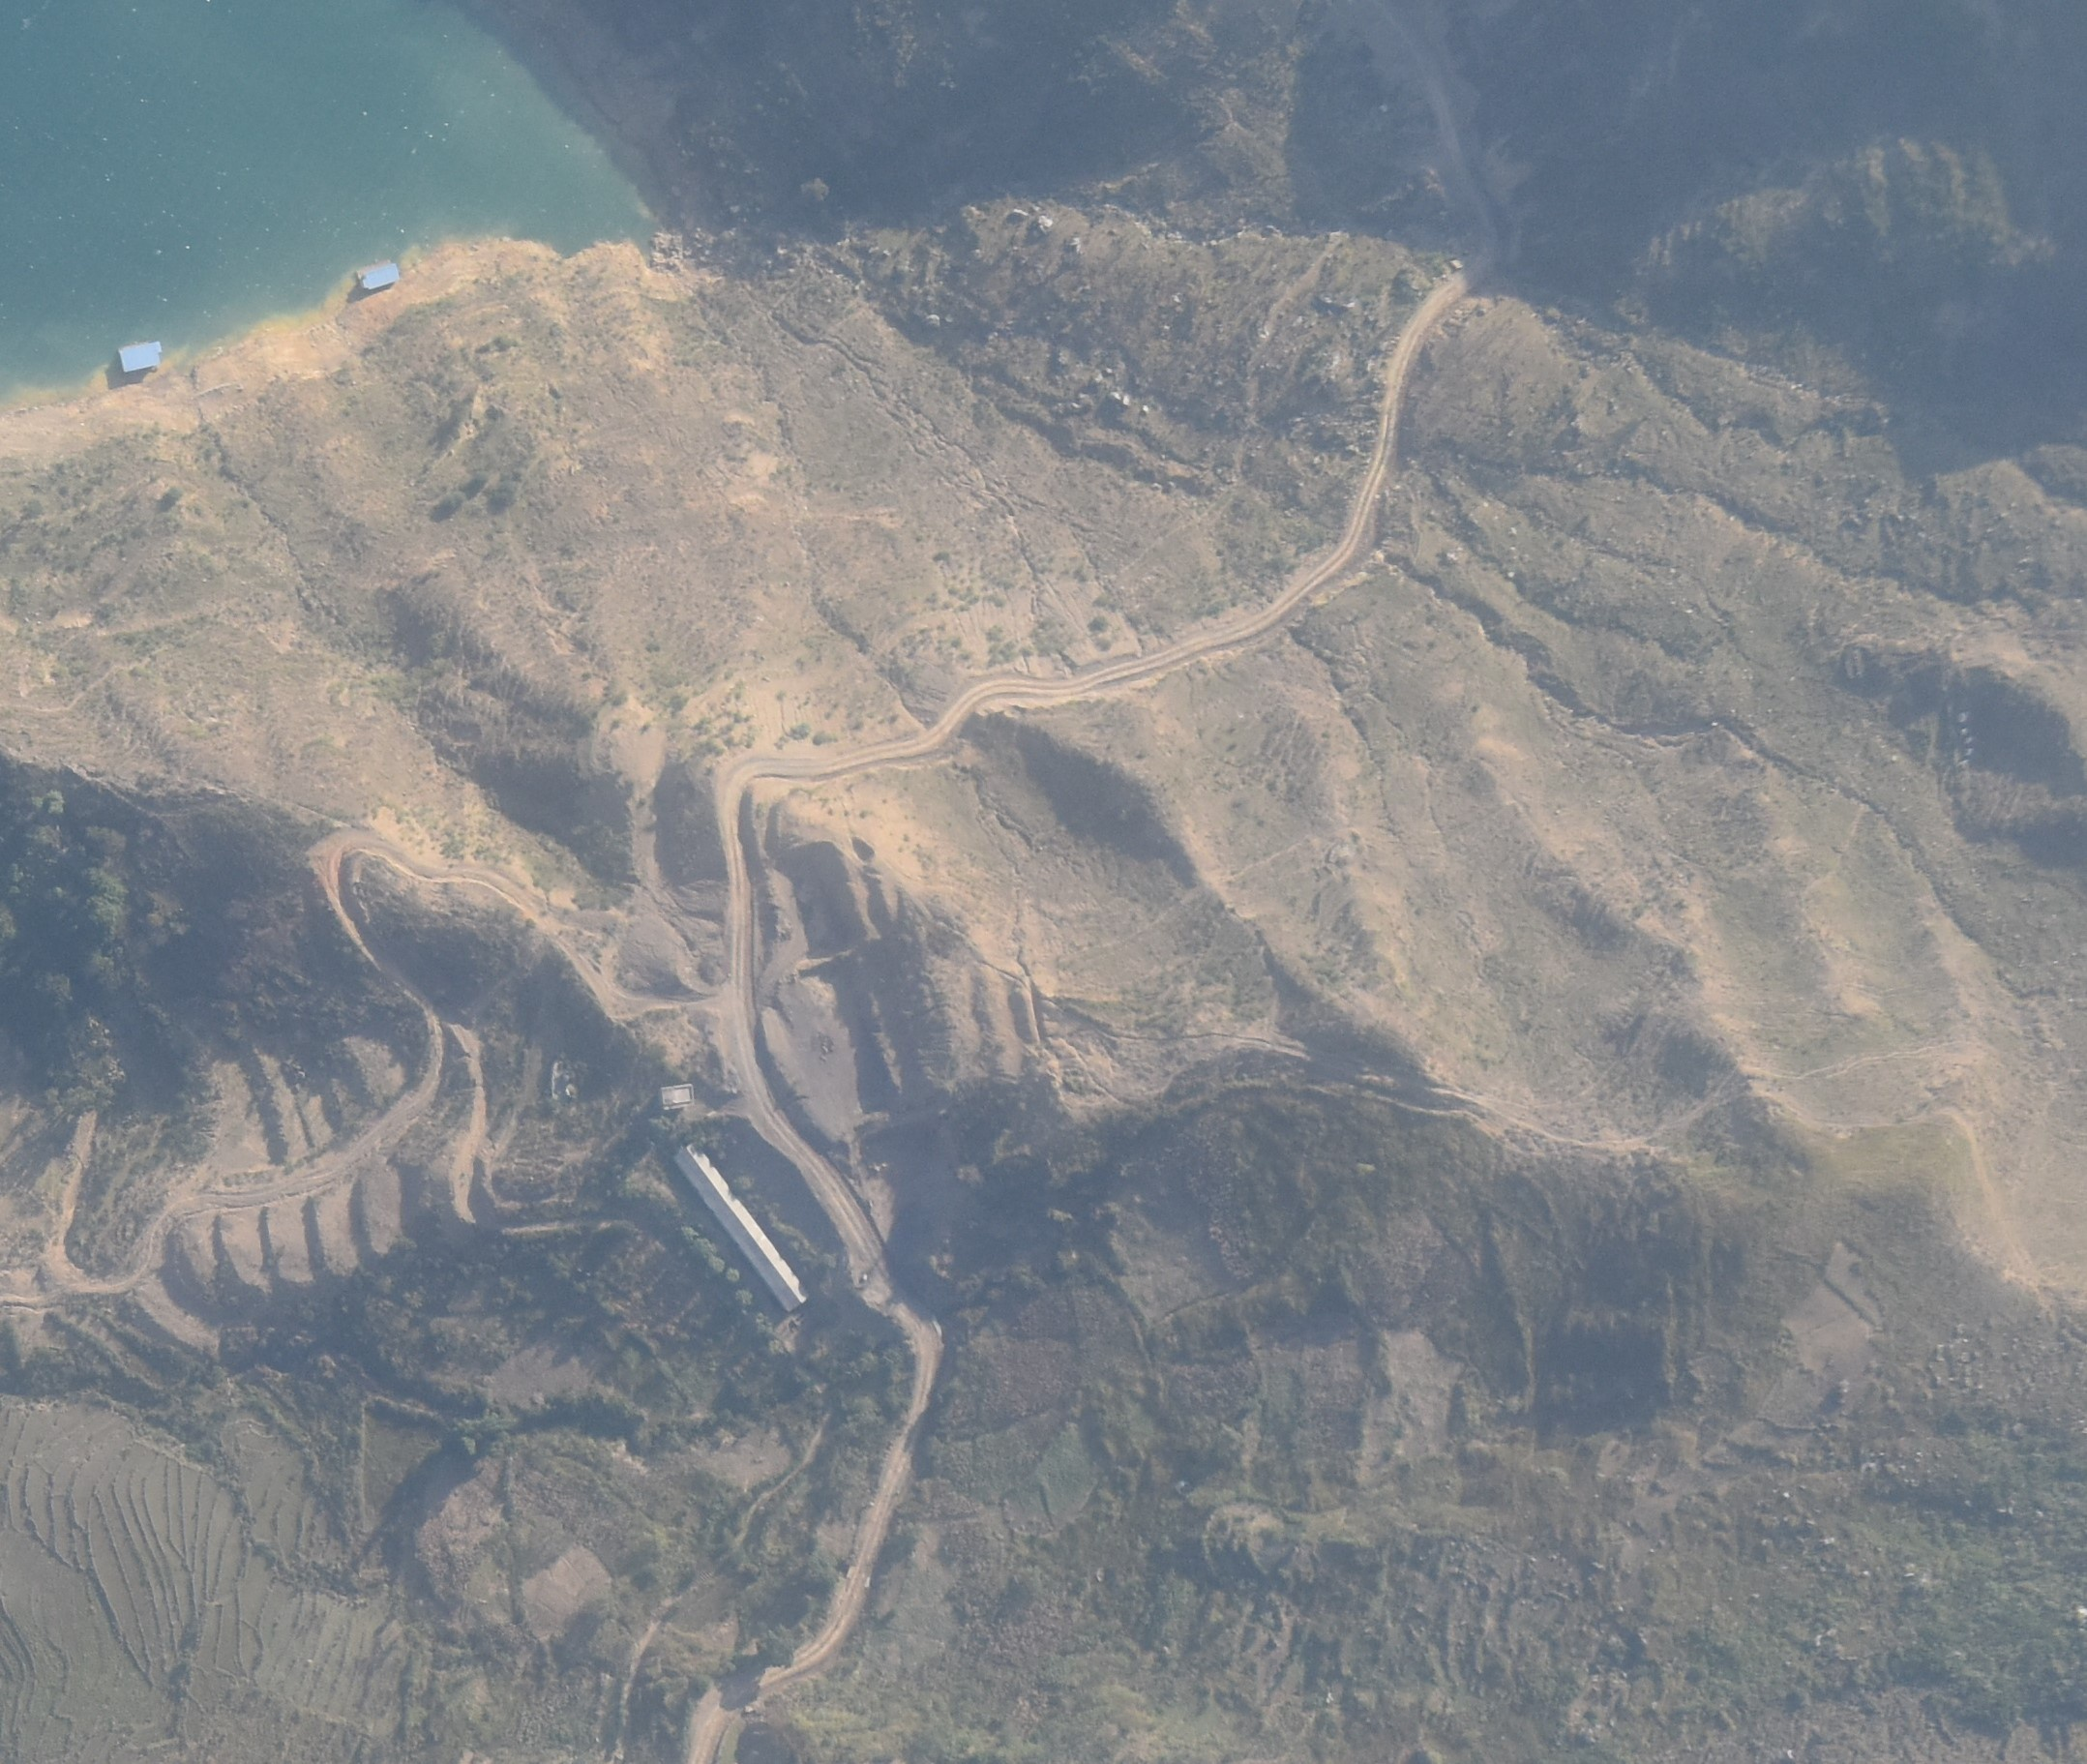building: (674, 1139, 809, 1314), (659, 1082, 694, 1112)
prefabricated-house: (118, 341, 163, 373), (361, 262, 400, 289)
